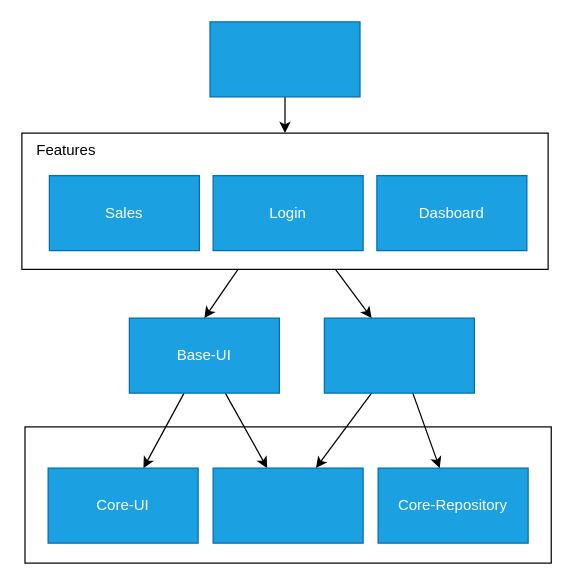
This 574x585 diagram has some shape labels left out. The shapes that lost their labels are listed below. From the top down, each one's box as (x1, y1, x2, y2) in pixels, then its label:
(209, 21, 360, 97): App
(323, 317, 474, 393): Base-Repository
(24, 426, 551, 563): Toolkit
(212, 467, 363, 543): Core-Utils
